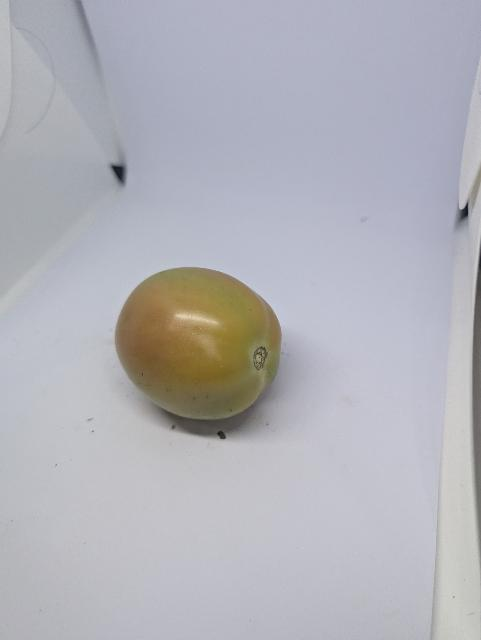breaker: (115, 267, 282, 420)
